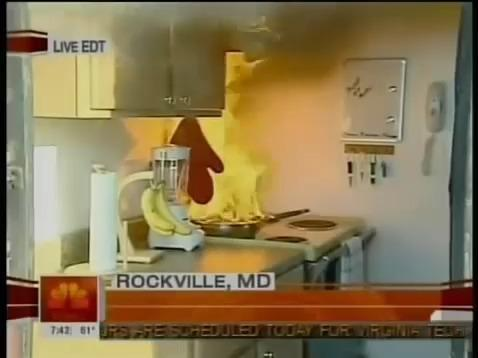fire: (188, 107, 266, 226)
